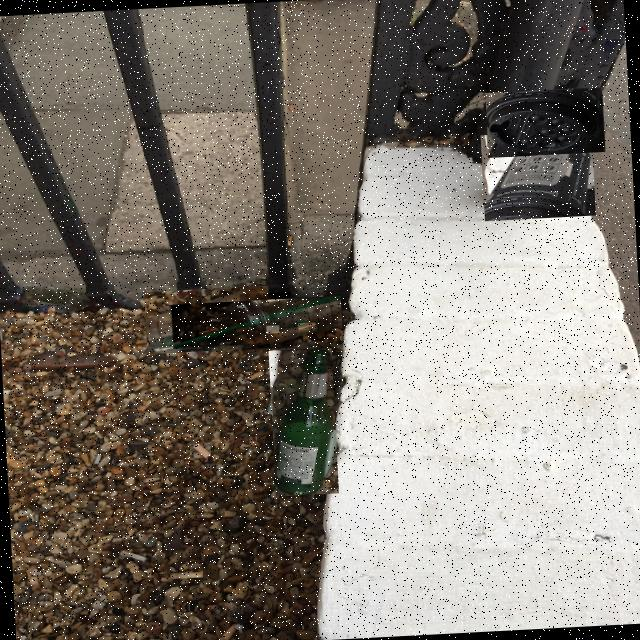Cigarette: (119, 551, 146, 562), (221, 624, 236, 640), (194, 444, 211, 457), (170, 573, 203, 579), (246, 371, 264, 380), (299, 323, 316, 330), (267, 326, 279, 333), (289, 234, 294, 246)
Disposable plastic cup: (147, 288, 270, 354)
Glass bottle: (275, 350, 335, 496)
Paper cup: (485, 132, 592, 216)
Plastic lid: (487, 92, 603, 156), (243, 293, 292, 349)
Plastic straw: (174, 296, 341, 349)
